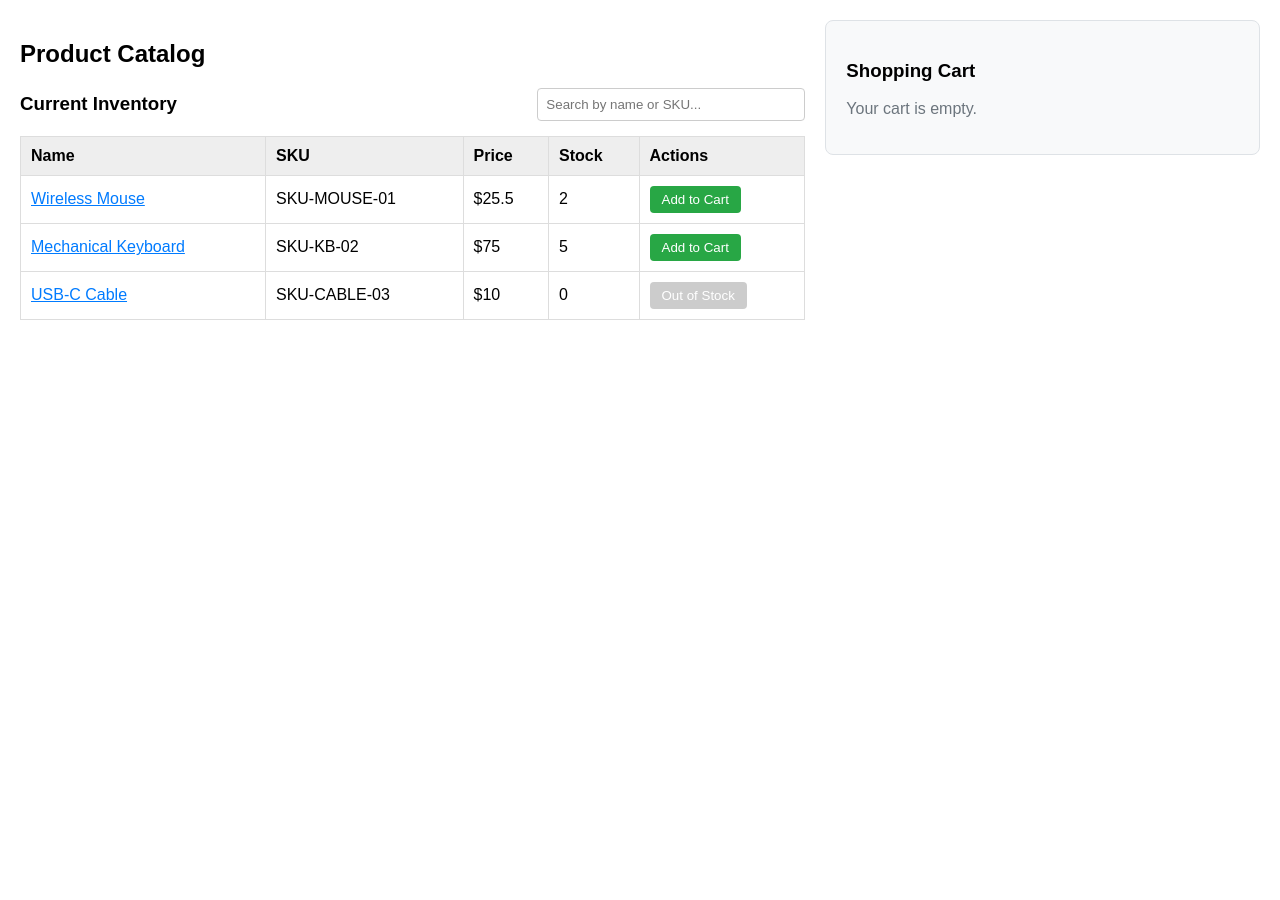
ProductCatalog Component › displays fallback values for category and description when missing
Click the text "USB-C Cable".
click(79, 295)  # box top-left (31, 286), bottom-right (127, 303)
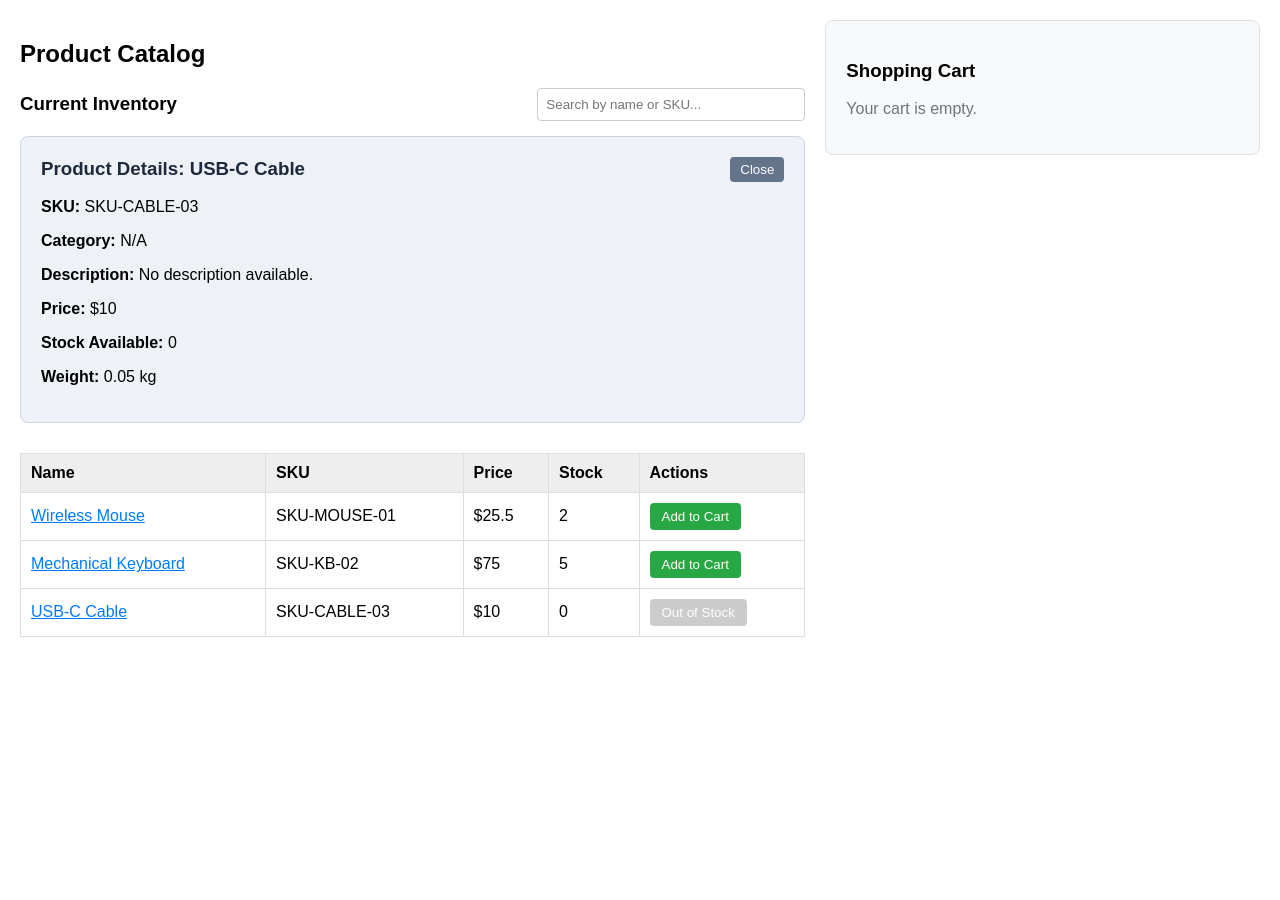
Expected: the heading "Product Details: USB-C Cable" is shown, top-left (41, 158), bottom-right (305, 180)
Expected: the text "N/A" is shown, top-left (120, 232), bottom-right (147, 249)
Expected: the text "No description available." is shown, top-left (139, 266), bottom-right (313, 283)
